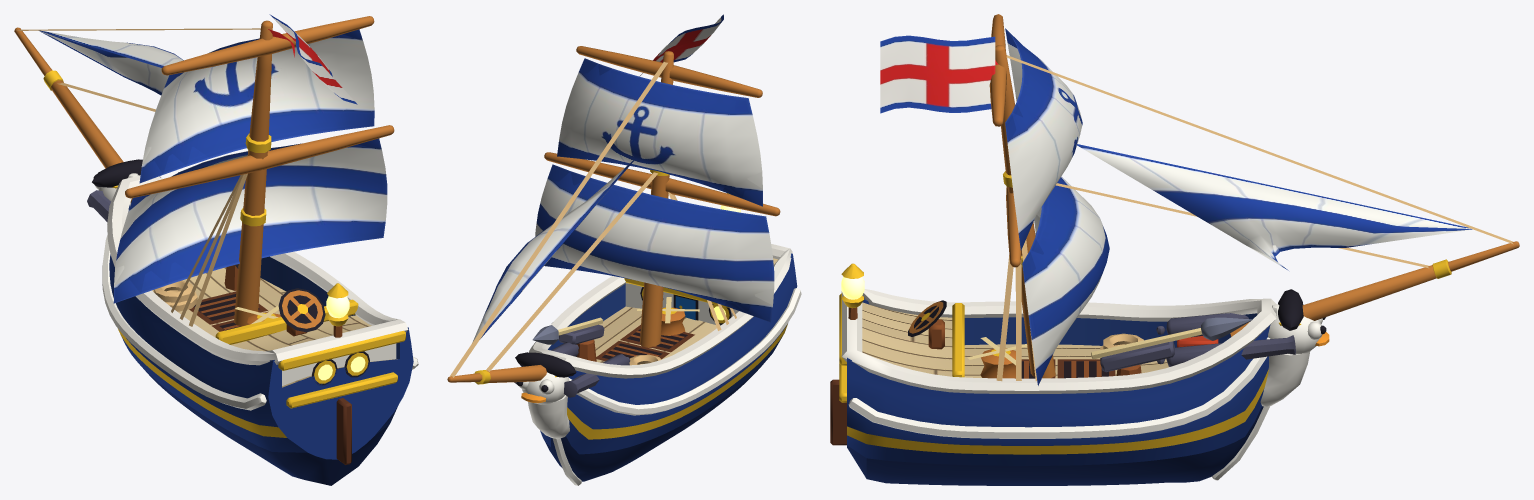
The model's file is navy_chaser.glb.
The picture shows the model from 3 angles, left to right: view 1: azimuth 30°, elevation 25°; view 2: azimuth 150°, elevation 25°; view 3: azimuth 270°, elevation 25°; orthographic projection. The views are drawn at different scales.
Parts seen in each view (by area): view 1: Hull, Sail0_0, Sail0_1, Rigging, Jib, Flag, Guns0; view 2: Hull, Sail0_0, Sail0_1, Rigging, Jib, Flag, Guns0; view 3: Hull, Jib, Rigging, Sail0_0, Sail0_1, Flag, Guns0.
Boxes of the visible parts, x1,y1,x2,y2 form: Hull: (92,159,418,485); Sail0_0: (113,138,387,303); Sail0_1: (139,29,374,183); Rigging: (14,16,394,326); Jib: (39,30,183,95); Flag: (269,14,357,104); Guns0: (87,176,160,221); Hull: (515,193,801,485); Sail0_0: (535,164,774,322); Sail0_1: (557,58,762,206); Rigging: (447,40,780,384); Jib: (472,157,636,342); Flag: (639,14,723,76); Guns0: (514,342,630,397); Hull: (830,263,1329,485); Jib: (1077,144,1472,270); Rigging: (989,14,1519,381); Sail0_0: (1022,176,1109,385); Sail0_1: (1005,28,1082,250); Flag: (880,35,995,113); Guns0: (1156,313,1295,366).
Size of the model in its own units: 1.19 by 1.8 by 2.51.
9 materials, 4 textured.
